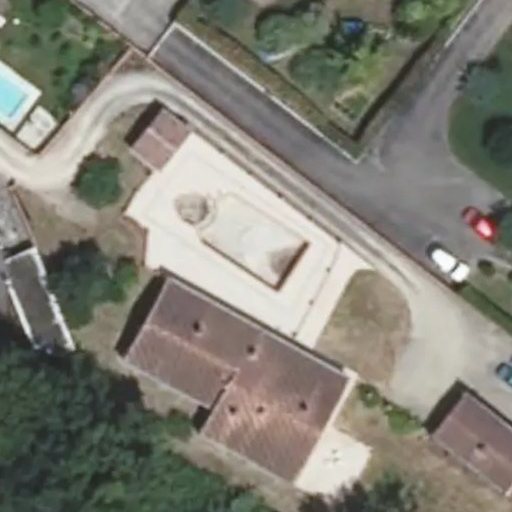pool: (201, 240, 311, 243)
